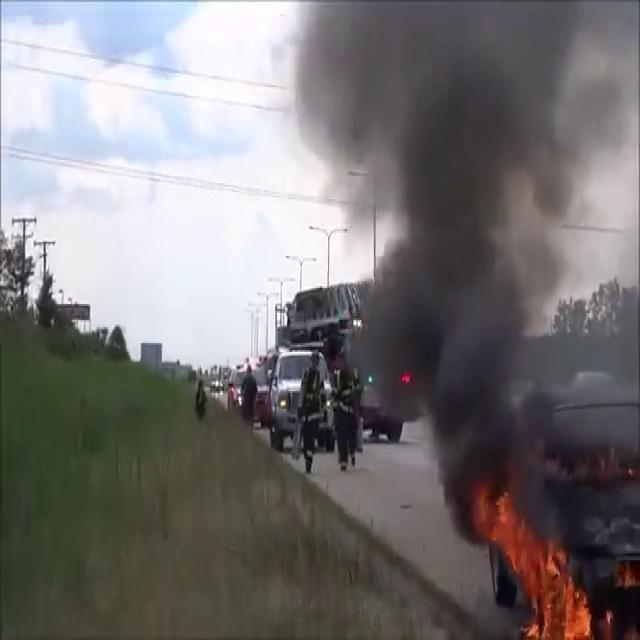Fire: (482, 488, 607, 638)
Smoke: (298, 0, 637, 485)
